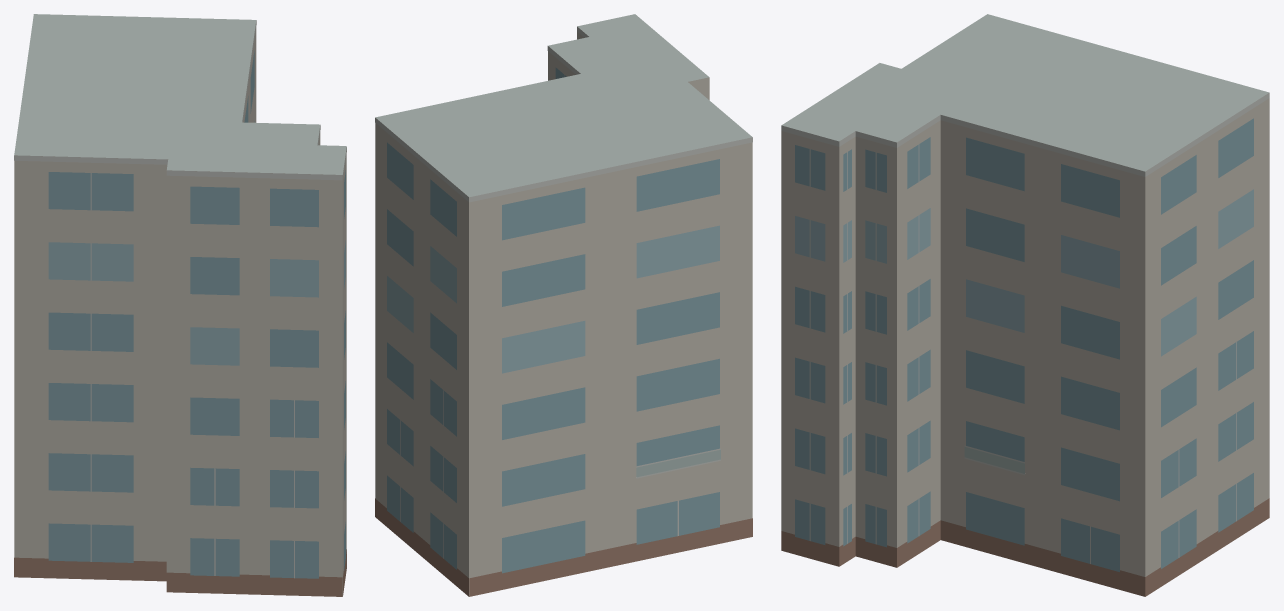
The model's file is survey-upis-32797552.glb.
3 views of the same model, side by side, from view 1: azimuth 30°, elevation 25°; view 2: azimuth 150°, elevation 25°; view 3: azimuth 270°, elevation 25° (orthographic). The views are drawn at different scales.
Visible parts, largest first — view 1: survey-upis-32797552.tmp; view 2: survey-upis-32797552.tmp; view 3: survey-upis-32797552.tmp.
Boxes of the visible parts, left/top/right/bottom form: survey-upis-32797552.tmp: left=14, top=14, right=346, bottom=596; survey-upis-32797552.tmp: left=375, top=14, right=752, bottom=596; survey-upis-32797552.tmp: left=781, top=14, right=1269, bottom=596.
Size of the model in its own units: 15.11 by 19 by 19.78.
